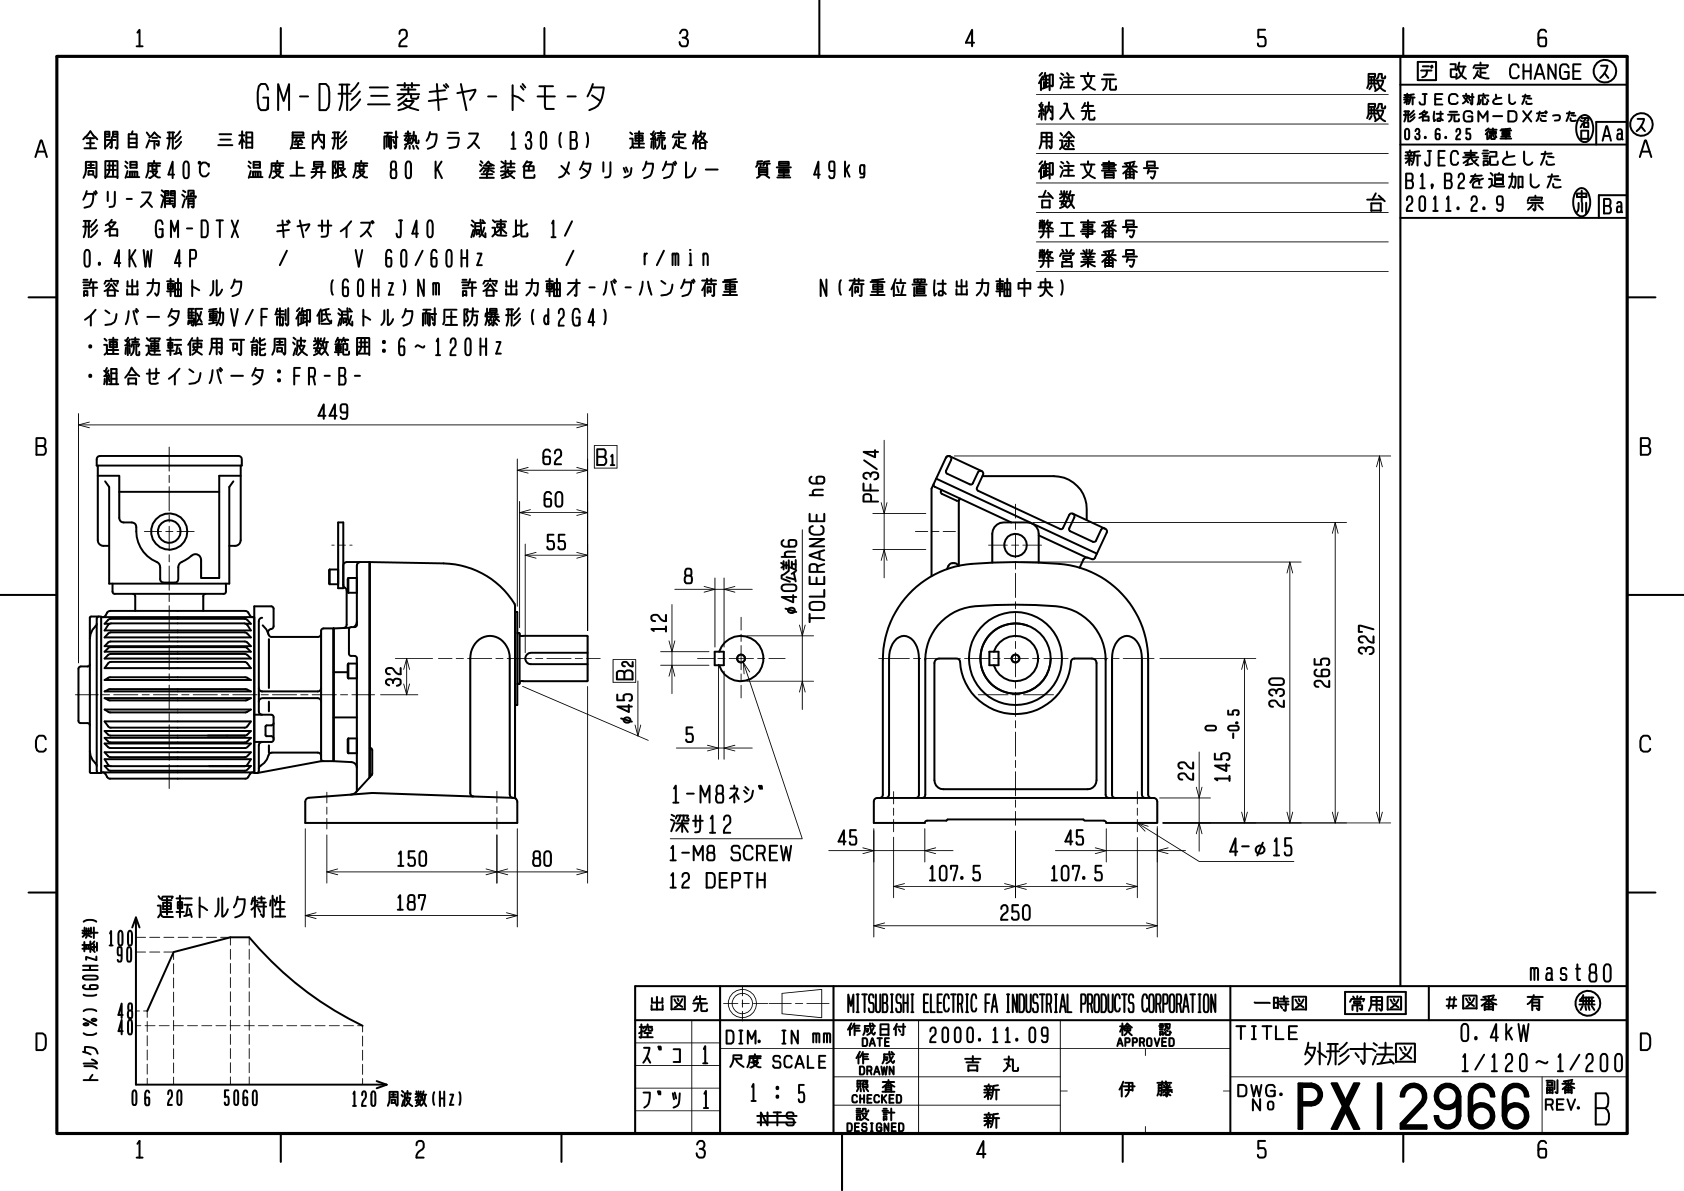GM_D_VF制御屋内_三相_脚: (64, 394, 1389, 967)
